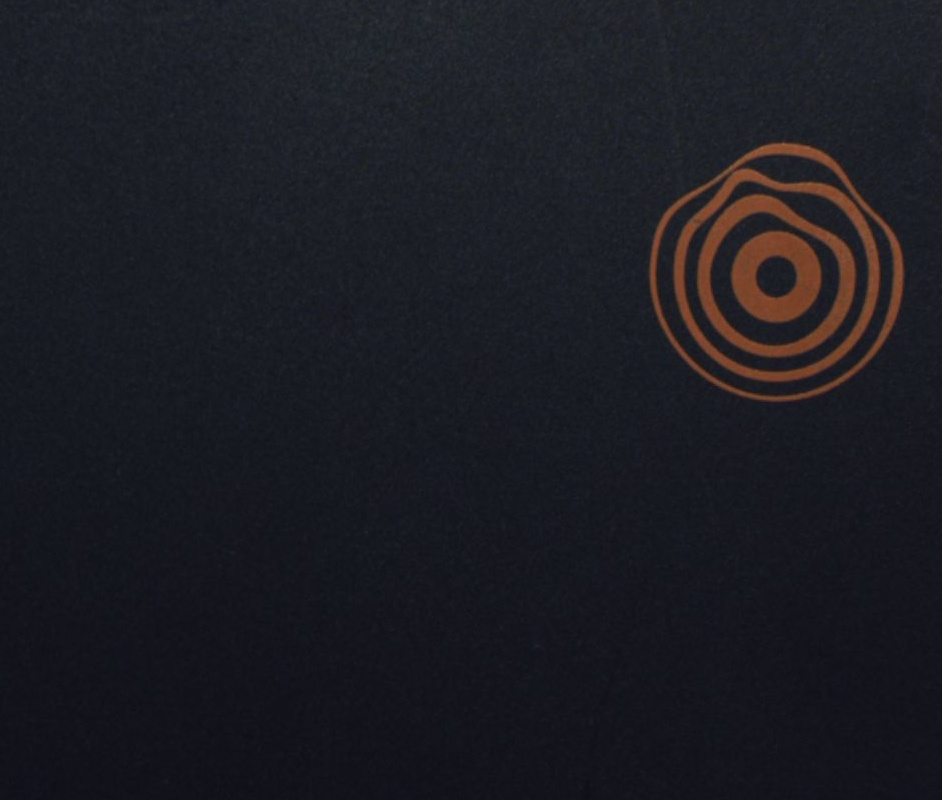BU_HG680GY: (650, 138, 907, 404)
